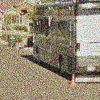buses: (31, 1, 100, 77)
